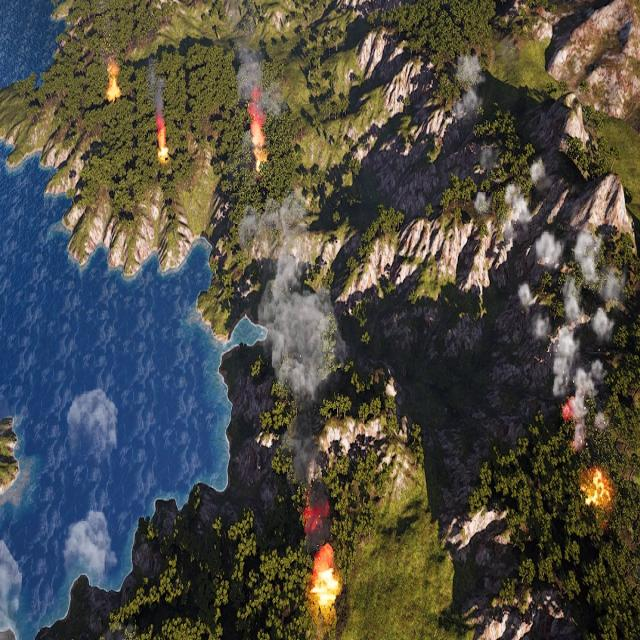fire: (310, 550, 340, 606), (582, 470, 612, 508), (252, 112, 268, 173), (105, 62, 121, 100), (156, 123, 170, 162)
smoke: (455, 50, 627, 451), (234, 188, 351, 543), (234, 20, 284, 117), (64, 391, 121, 463), (64, 513, 117, 578), (0, 537, 21, 640), (148, 58, 168, 118)
